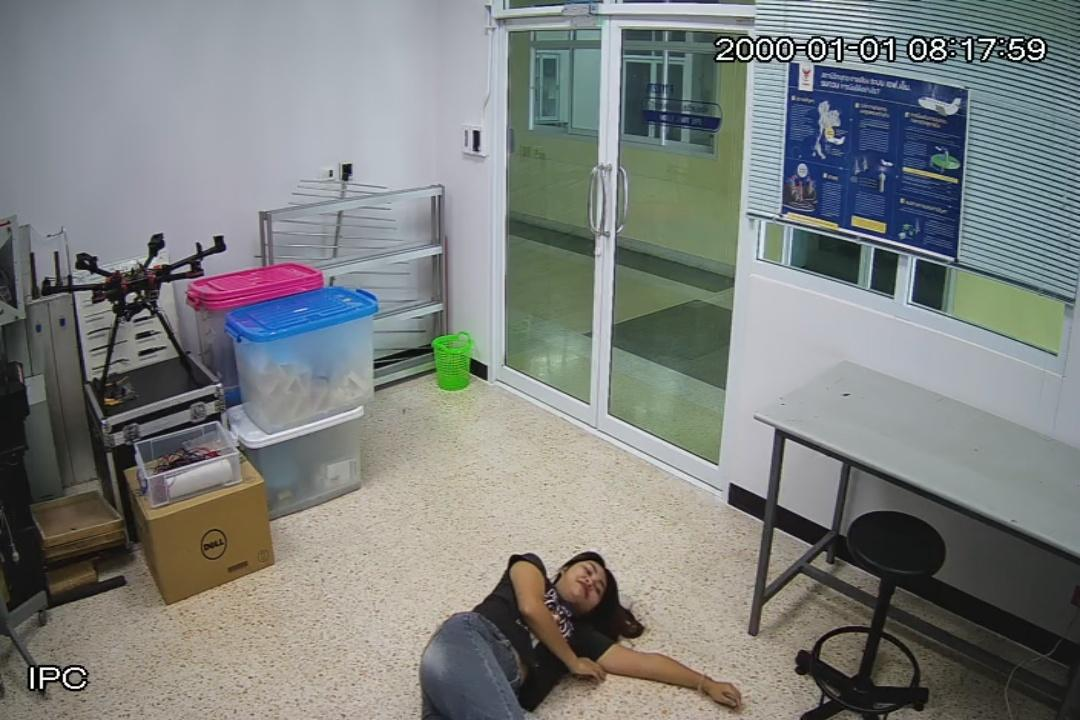fall: (403, 540, 693, 720)
